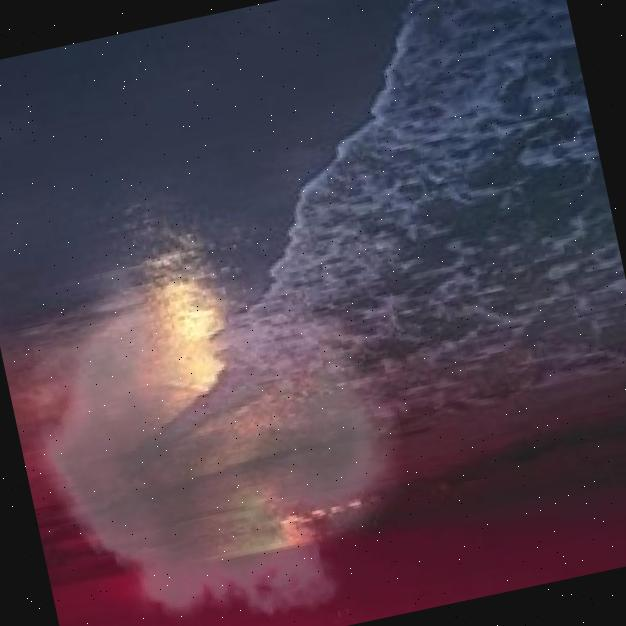smoke: (0, 213, 438, 626)
